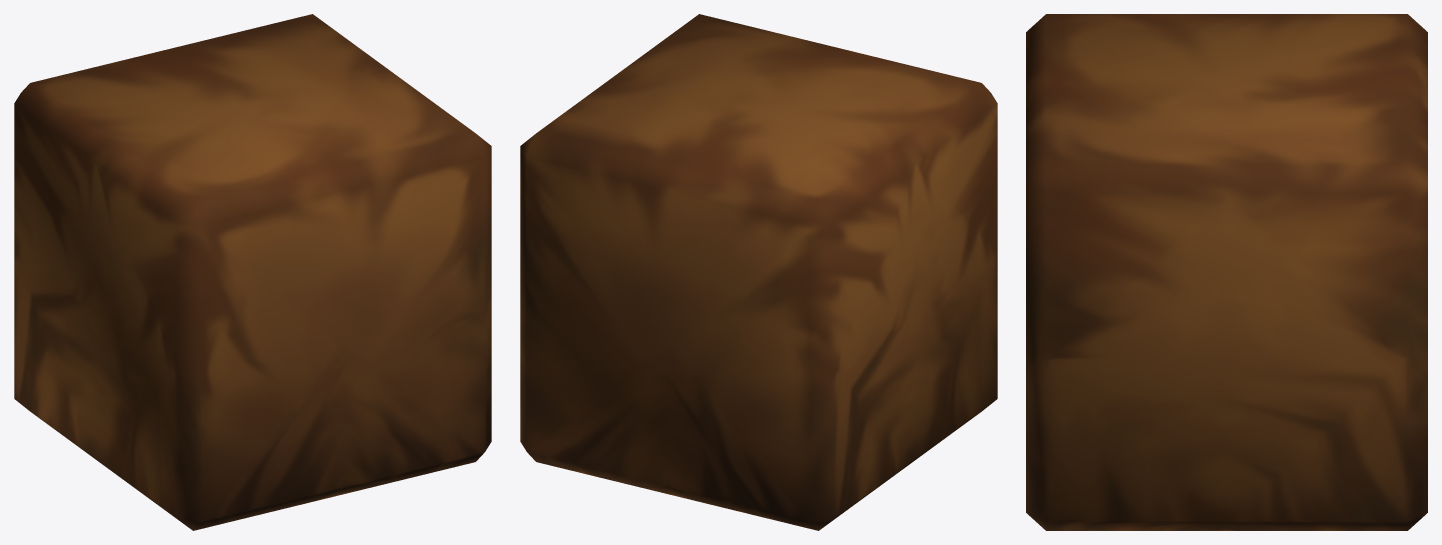
The model's file is Block_Destroyable.glb.
3 renders of one model, left to right at view 1: azimuth 30°, elevation 25°; view 2: azimuth 150°, elevation 25°; view 3: azimuth 270°, elevation 25°, orthographic. The views are drawn at different scales.
Visible parts, largest first — view 1: Cube; view 2: Cube; view 3: Cube.
Boxes of the visible parts, x1,y1,x2,y2 form: Cube: (14, 14, 491, 530); Cube: (520, 14, 997, 530); Cube: (1026, 14, 1427, 530).
Bounding box in the file's own units: 2 × 2 × 2.
1 material, 1 textured.
